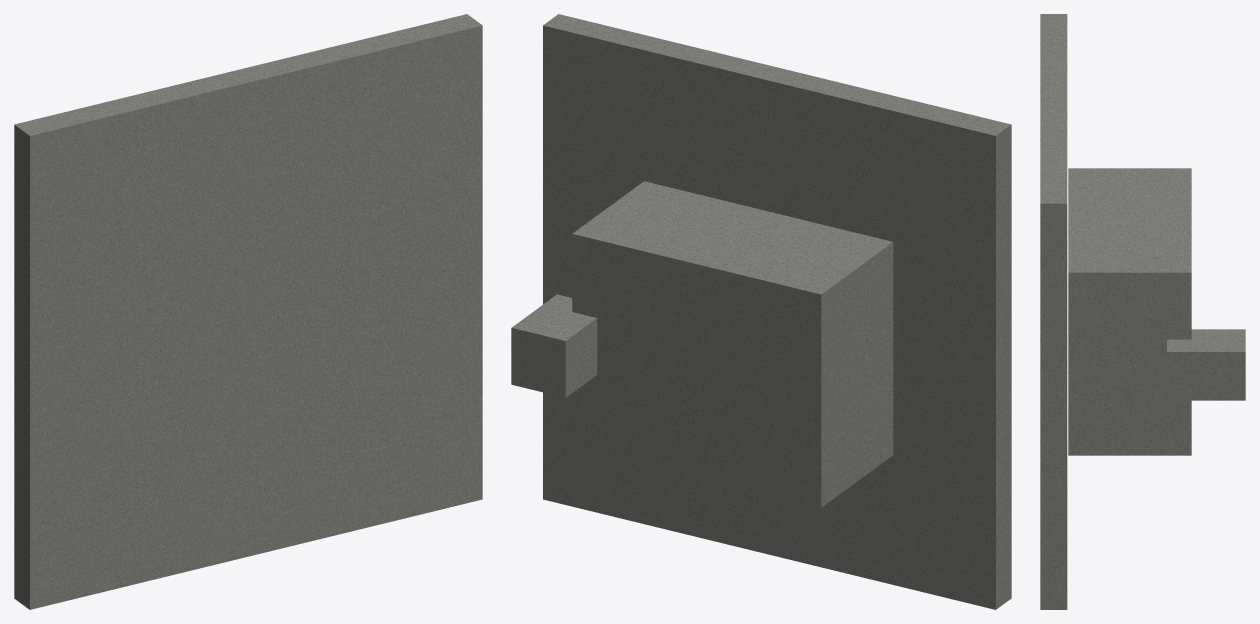
3 renders of one model, left to right at view 1: azimuth 30°, elevation 25°; view 2: azimuth 150°, elevation 25°; view 3: azimuth 270°, elevation 25°, orthographic. The views are drawn at different scales.
Parts seen in each view (by area): view 1: diesel_gen_pad_2x2_production_run001; view 2: diesel_gen_pad_2x2_production_run001; view 3: diesel_gen_pad_2x2_production_run001.
Part boxes in pixels (x1=…): diesel_gen_pad_2x2_production_run001: x1=14, y1=14, x2=482, y2=609; diesel_gen_pad_2x2_production_run001: x1=511, y1=14, x2=1011, y2=609; diesel_gen_pad_2x2_production_run001: x1=1040, y1=14, x2=1245, y2=609.
Bounding box in the file's own units: 4 × 4 × 1.83.
1 material, 1 textured.
